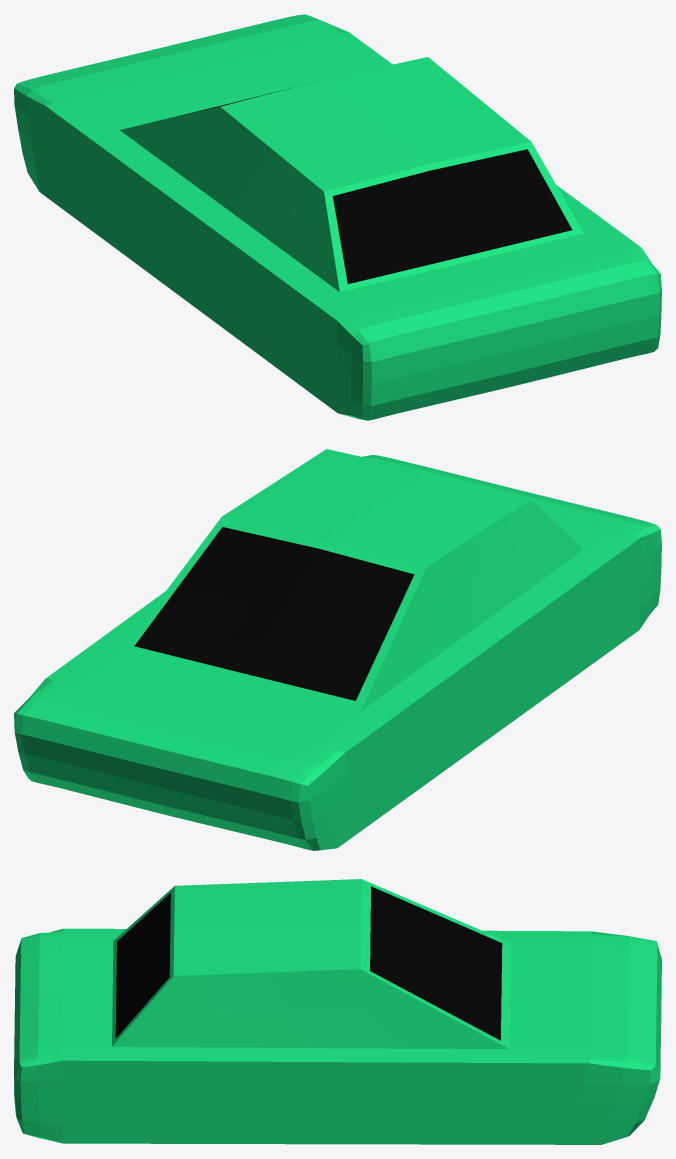
File: Car.fbx
3 renders of one model, top to bottom at view 1: azimuth 30°, elevation 25°; view 2: azimuth 150°, elevation 25°; view 3: azimuth 270°, elevation 25°, orthographic. The views are drawn at different scales.
Parts seen in each view (by area): view 1: Car; view 2: Car; view 3: Car.
Boxes of the visible parts, left/top/right/bottom form: Car: left=14, top=14, right=661, bottom=420; Car: left=14, top=449, right=661, bottom=850; Car: left=14, top=879, right=661, bottom=1144.
Size of the model in its own units: 101 by 55.31 by 207.
